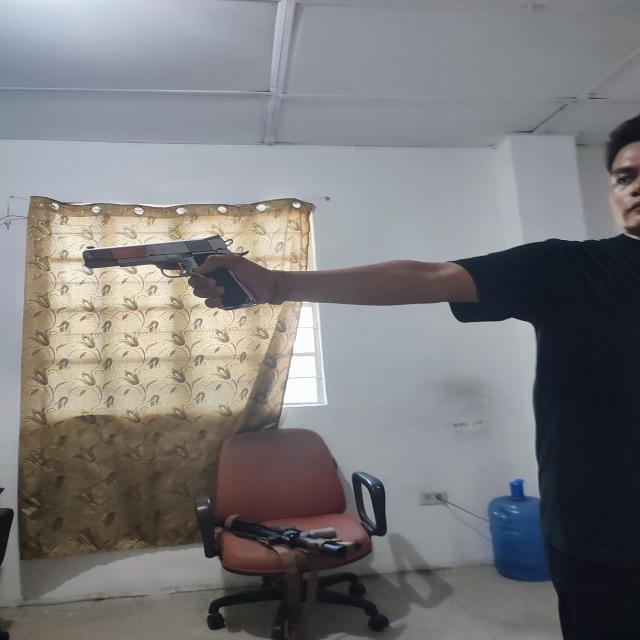pistol: (82, 235, 256, 312)
